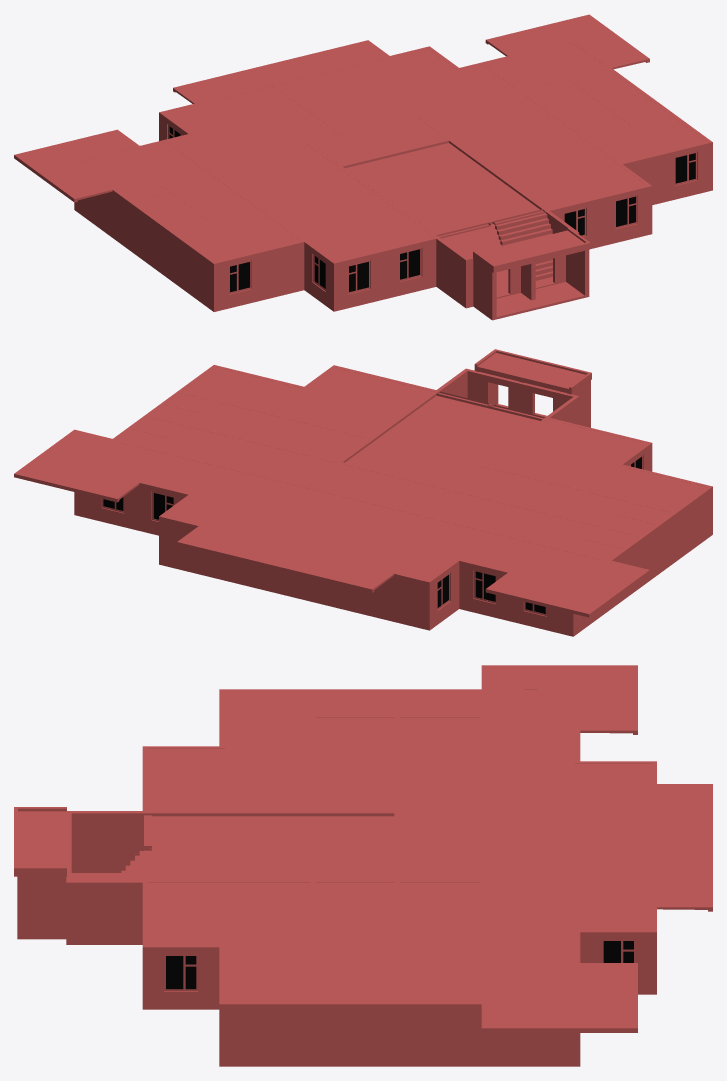
The model's file is SM_house_section.fbx.
3 views of the same model, one above another, from view 1: azimuth 30°, elevation 25°; view 2: azimuth 150°, elevation 25°; view 3: azimuth 270°, elevation 25° (orthographic). The views are drawn at different scales.
Parts seen in each view (by area): view 1: Boole_6; view 2: Boole_6; view 3: Boole_6.
Part boxes in pixels (x1,y1,x2,y2): Boole_6: (14, 14, 712, 320); Boole_6: (14, 349, 712, 636); Boole_6: (14, 665, 712, 1066).
Bounding box in the file's own units: 3125 × 285 × 2541.
